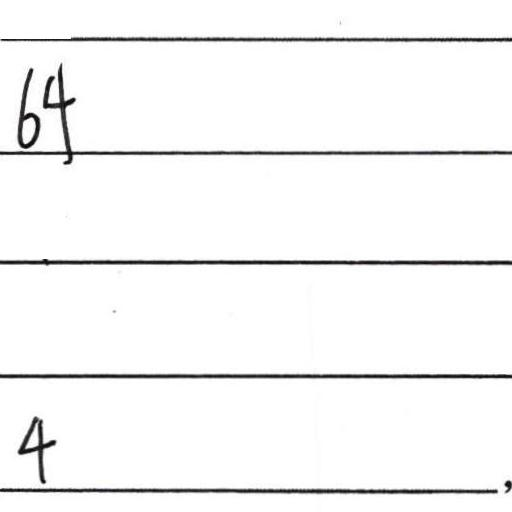ans: (7, 57, 78, 161), (10, 409, 58, 484)
